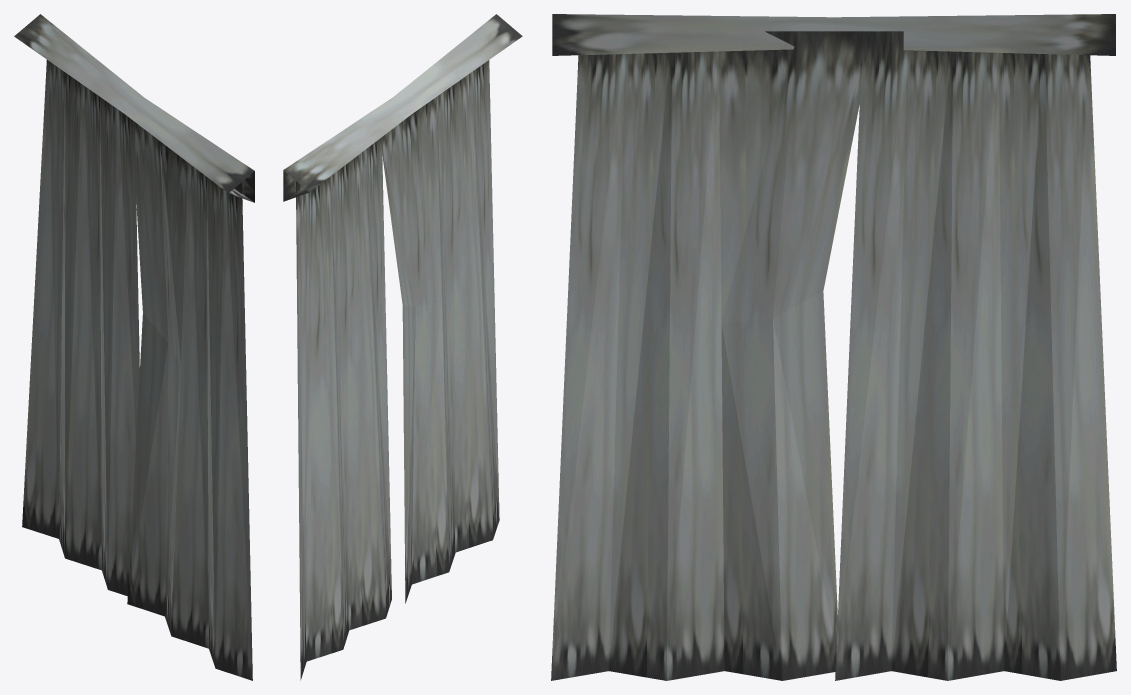
File: Vorhang_1005.glb
3 views of the same model, side by side, from view 1: azimuth 30°, elevation 25°; view 2: azimuth 150°, elevation 25°; view 3: azimuth 270°, elevation 25° (orthographic). The views are drawn at different scales.
Parts seen in each view (by area): view 1: pPlaneShape75, pPlaneShape74, pCylinderShape129; view 2: pPlaneShape75, pPlaneShape74, pCylinderShape129; view 3: pPlaneShape75, pPlaneShape74, pCylinderShape129.
Boxes of the visible parts, x1,y1,x2,y2 form: pPlaneShape75: (127, 119, 252, 680); pPlaneShape74: (22, 60, 139, 595); pCylinderShape129: (14, 14, 254, 202); pPlaneShape75: (380, 60, 499, 603); pPlaneShape74: (296, 137, 391, 680); pCylinderShape129: (283, 14, 522, 201); pPlaneShape75: (551, 31, 862, 680); pPlaneShape74: (835, 31, 1116, 680); pCylinderShape129: (552, 14, 1115, 55).
Bounding box in the file's own units: 0.0109 × 0.1995 × 0.153.
Materials: 3 (3 with a texture image).
